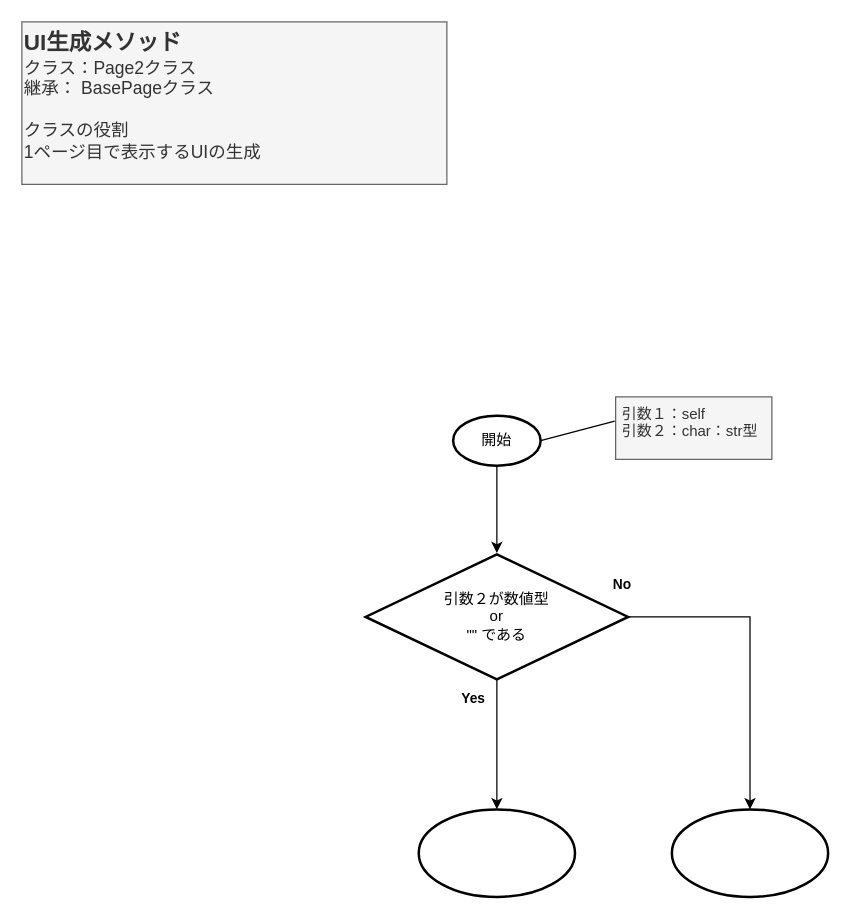
The diagram is 851 pixels wide and 920 high, and some of its shapes have lost their labels. Each missing label, with the centre of its shape:
戻り値： "false": pixel 749 853
戻り値： "true": pixel 496 853
